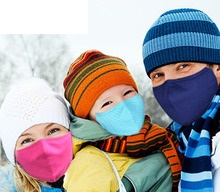face_mask: (151, 52, 213, 124), (15, 115, 72, 184), (95, 79, 144, 135)
